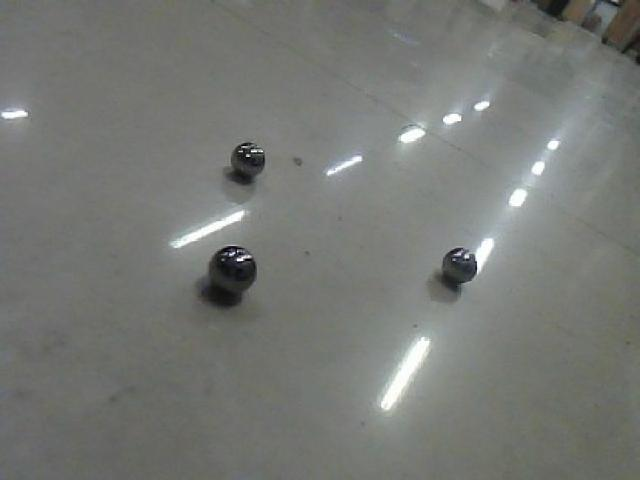steel-ball: (194, 226, 257, 300), (216, 122, 276, 190), (432, 226, 480, 292)
